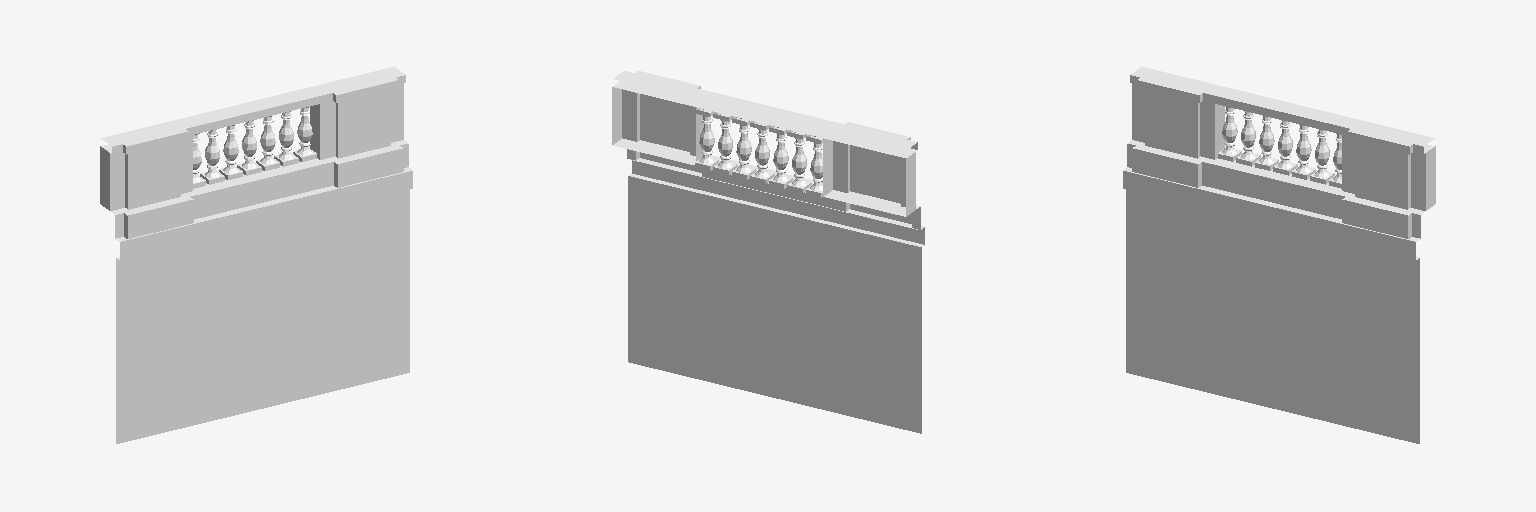
Rendered from Wand.obj.
3 renders of one model, left to right at view 1: azimuth 30°, elevation 25°; view 2: azimuth 150°, elevation 25°; view 3: azimuth 330°, elevation 25°, orthographic.
Parts seen in each view (by area): view 1: Wand_Cube; view 2: Wand_Cube; view 3: Wand_Cube.
Part boxes in pixels (x1,y1,x2,y2): Wand_Cube: (100, 67, 412, 443); Wand_Cube: (612, 71, 924, 433); Wand_Cube: (1123, 67, 1435, 443).
Bounding box in the file's own units: 17.85 × 17.13 × 2.2.